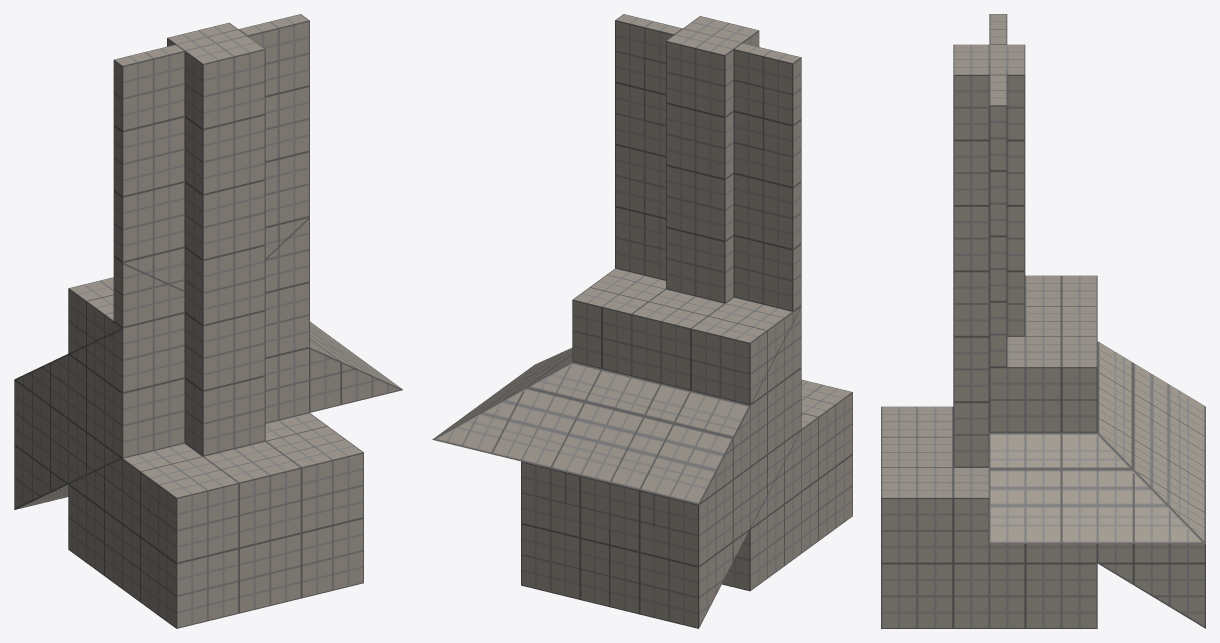
The model's file is LevelPieces.FBX.
3 views of the same model, side by side, from view 1: azimuth 30°, elevation 25°; view 2: azimuth 150°, elevation 25°; view 3: azimuth 270°, elevation 25° (orthographic). The views are drawn at different scales.
Parts seen in each view (by area): view 1: Voxel, WallSeprator, WindowX1.0, StairR, Stair, Wall, Ground, StairCorner, Fence_StairL, WallHalf, Fence_StairR, Door (+1 smaller); view 2: Stair, Wall, WallSeprator, StairCorner, WindowX2.0, WallHalf, Voxel, StairR, WallCorner, GroundHalf, WindowX1.0, StairL (+2 smaller); view 3: Voxel, StairCorner, WallSeprator, WallHalf, Stair, Ground, WindowX1.0, Wall, Door, Fence_StairR, WindowX2.0.
Boxes of the visible parts, x1=… form: Voxel: x1=68, y1=413, x2=363, y2=628; WallSeprator: x1=167, y1=22, x2=265, y2=456; WindowX1.0: x1=114, y1=14, x2=309, y2=457; StairR: x1=14, y1=322, x2=184, y2=509; Stair: x1=15, y1=282, x2=309, y2=509; Wall: x1=113, y1=20, x2=309, y2=458; Ground: x1=123, y1=443, x2=304, y2=497; StairCorner: x1=310, y1=321, x2=402, y2=412; Fence_StairL: x1=113, y1=256, x2=184, y2=327; WallHalf: x1=68, y1=277, x2=113, y2=353; Fence_StairR: x1=265, y1=217, x2=309, y2=292; Door: x1=114, y1=62, x2=309, y2=456; Stair: x1=521, y1=308, x2=801, y2=628; Wall: x1=615, y1=43, x2=801, y2=430; WallSeprator: x1=666, y1=16, x2=759, y2=303; StairCorner: x1=432, y1=348, x2=660, y2=482; WindowX2.0: x1=615, y1=20, x2=801, y2=429; WallHalf: x1=572, y1=268, x2=792, y2=404; Voxel: x1=722, y1=384, x2=852, y2=591; StairR: x1=610, y1=323, x2=793, y2=627; WallCorner: x1=572, y1=300, x2=650, y2=379; GroundHalf: x1=565, y1=472, x2=654, y2=536; WindowX1.0: x1=615, y1=14, x2=800, y2=321; StairL: x1=580, y1=522, x2=609, y2=607; Voxel: x1=881, y1=407, x2=1097, y2=628; StairCorner: x1=989, y1=387, x2=1205, y2=543; WallSeprator: x1=953, y1=44, x2=1025, y2=467; WallHalf: x1=989, y1=275, x2=1097, y2=432; Stair: x1=1097, y1=341, x2=1205, y2=628; Ground: x1=881, y1=406, x2=989, y2=497; WindowX1.0: x1=989, y1=14, x2=1007, y2=301; Wall: x1=989, y1=105, x2=1007, y2=301; Door: x1=989, y1=114, x2=1007, y2=301; Fence_StairR: x1=989, y1=302, x2=1007, y2=367; WindowX2.0: x1=989, y1=120, x2=1007, y2=276.
Bounding box in the file's own units: 4.5 × 8 × 4.5.
